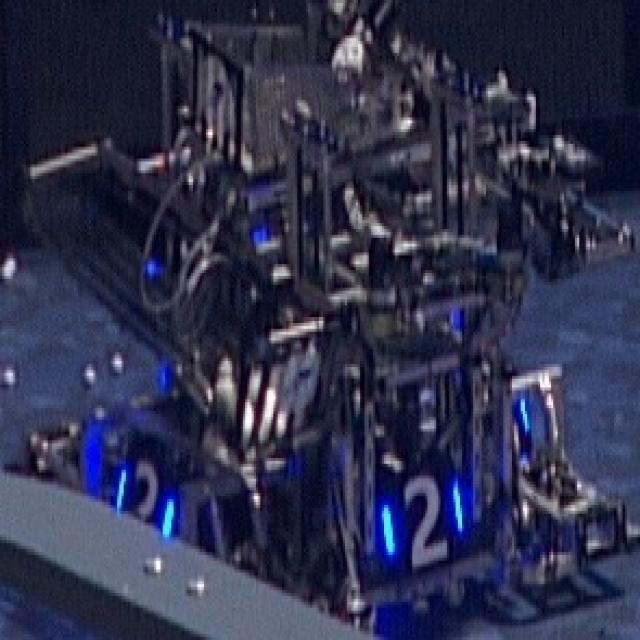B2: (378, 469, 464, 566), (113, 458, 173, 534)
